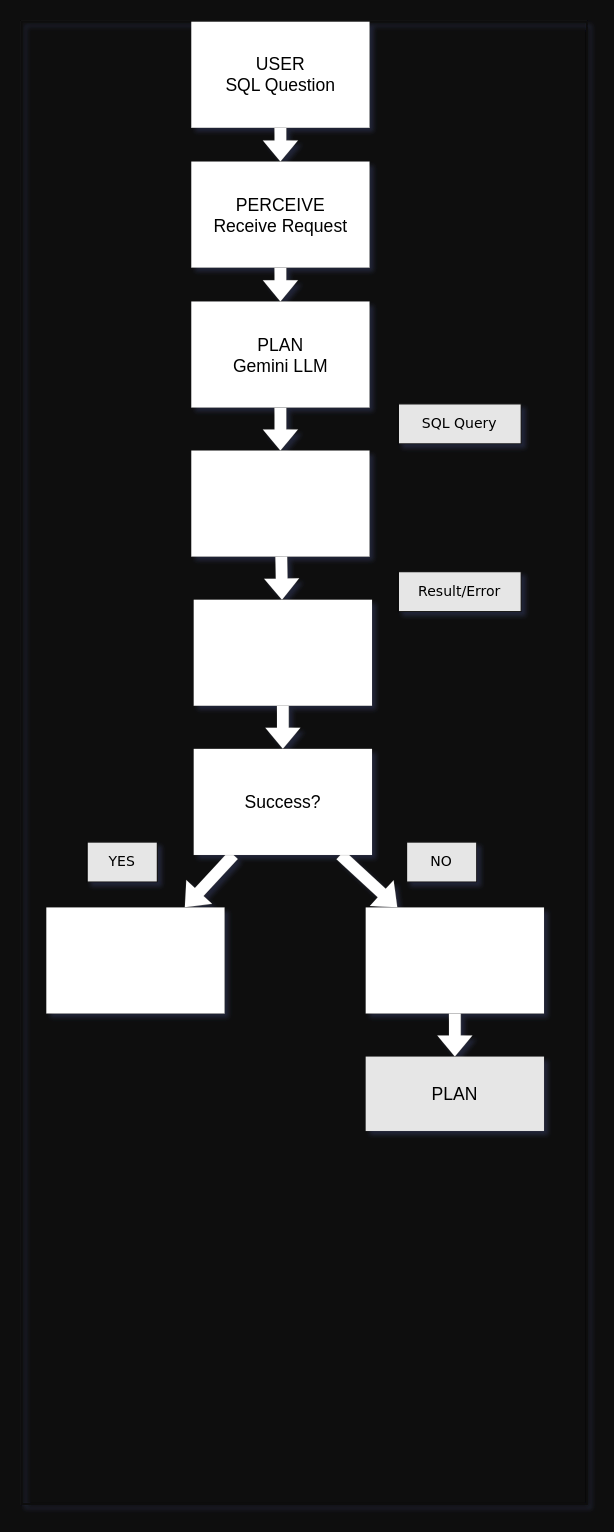
Some shapes in this 614 by 1532 pixel diagram are drawn without their labels. Here are the shapes that lost their labels. From the top down, the box of each, then its label:
(191, 450, 369, 556): ACT SQLite Tools
(193, 599, 371, 705): OBSERVE Result Analysis
(46, 907, 224, 1013): STOP
(365, 907, 543, 1013): Next Iteration
